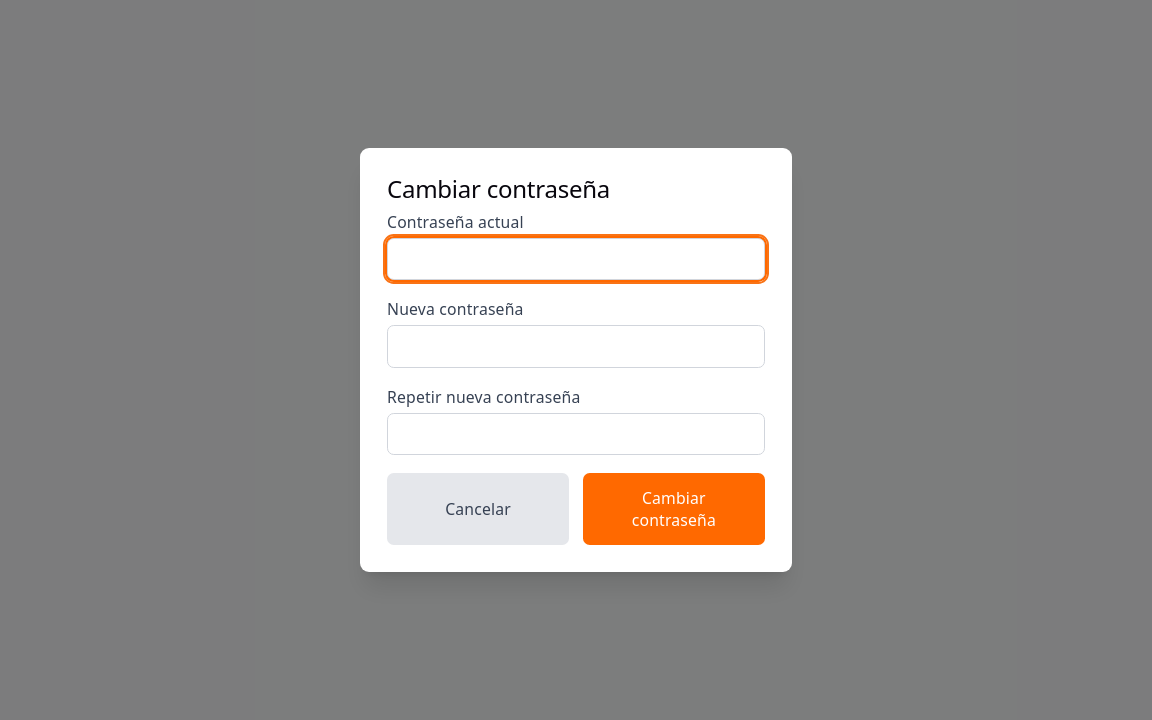
Test: ChangePasswordDialog › rejects a new password shorter than 8 characters
This screenshot has width=1152, height=720.
Type "current-secret" into the password field labelled "Contraseña actual". click: (576, 259)
box: [387, 238, 765, 280]
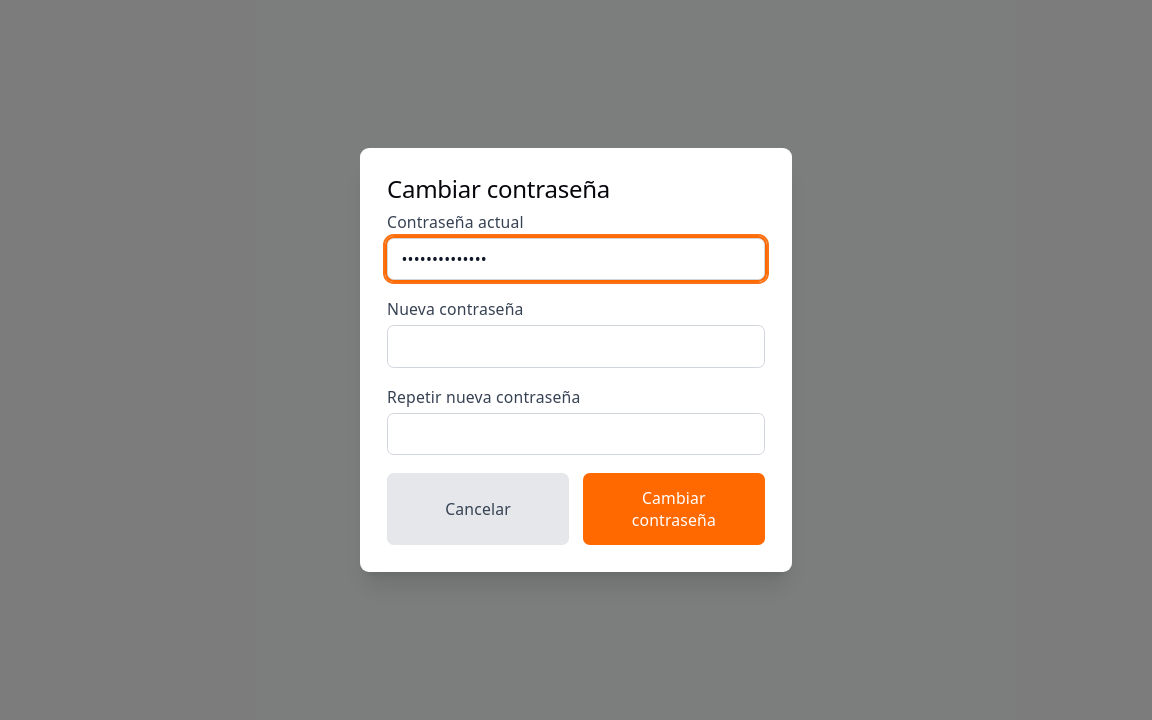
Type "short" into the password field labelled "Nueva contraseña". click: (576, 347)
box: [387, 325, 765, 368]
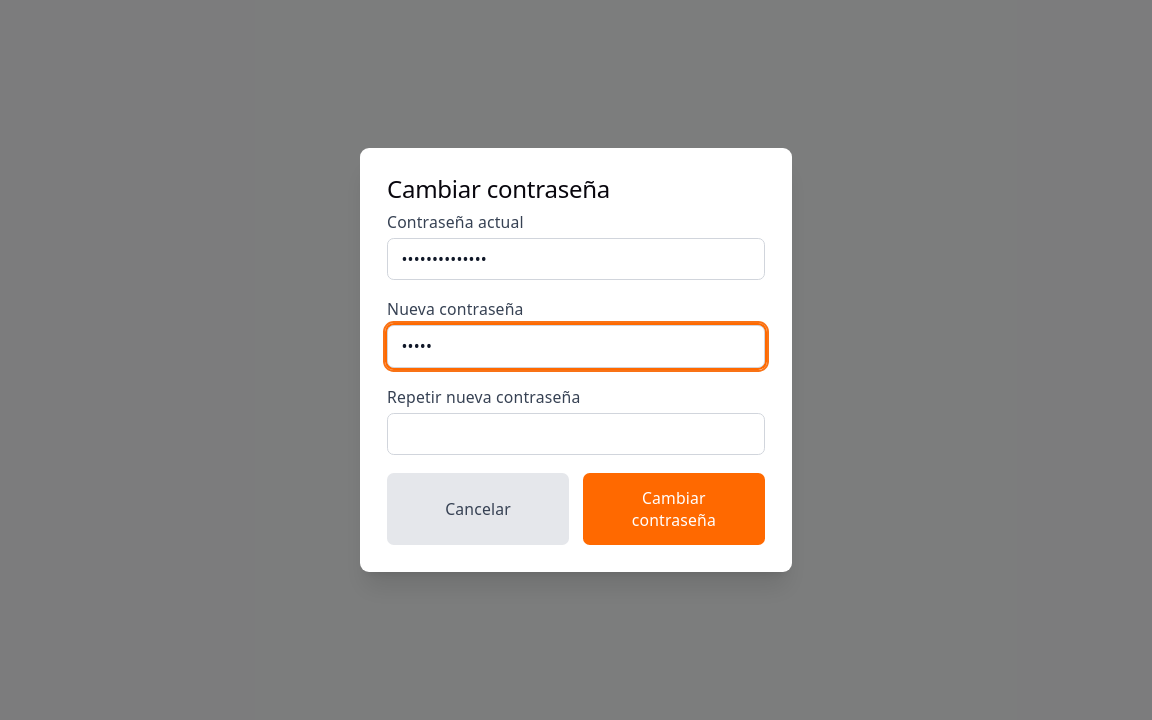
Type "short" into the password field labelled "Repetir nueva contraseña". click: (576, 434)
box: [387, 413, 765, 455]
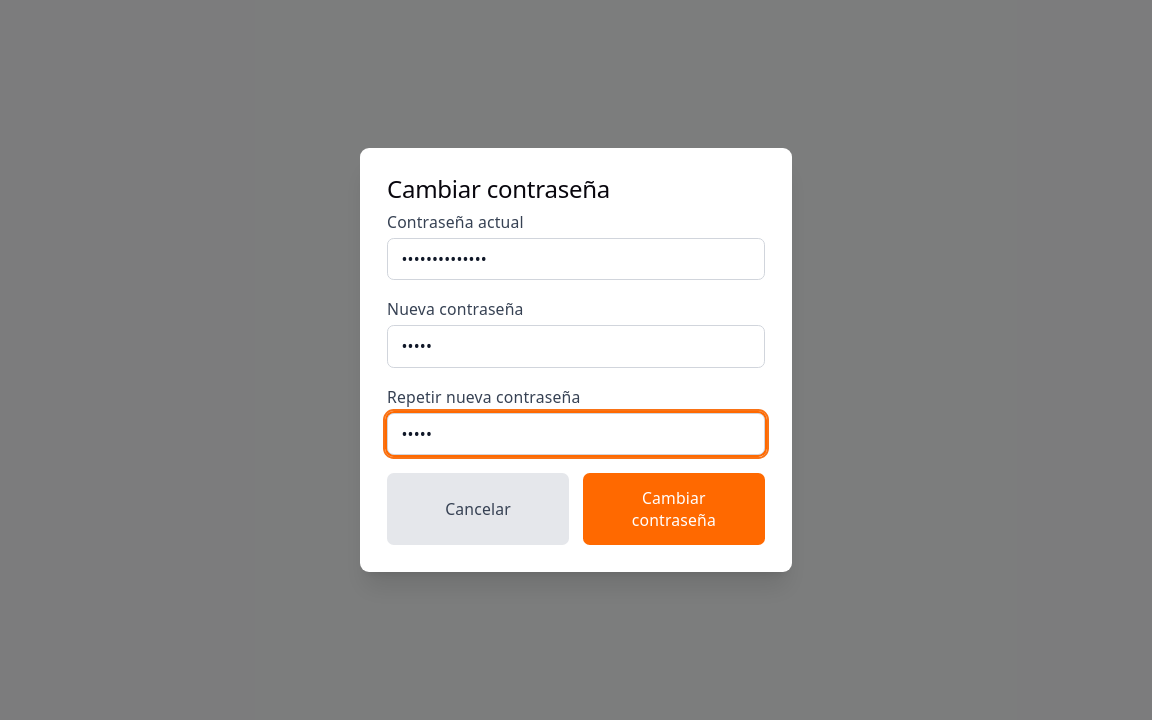
Click the button "Cambiar contraseña". click: (674, 509)
box: [583, 473, 765, 545]
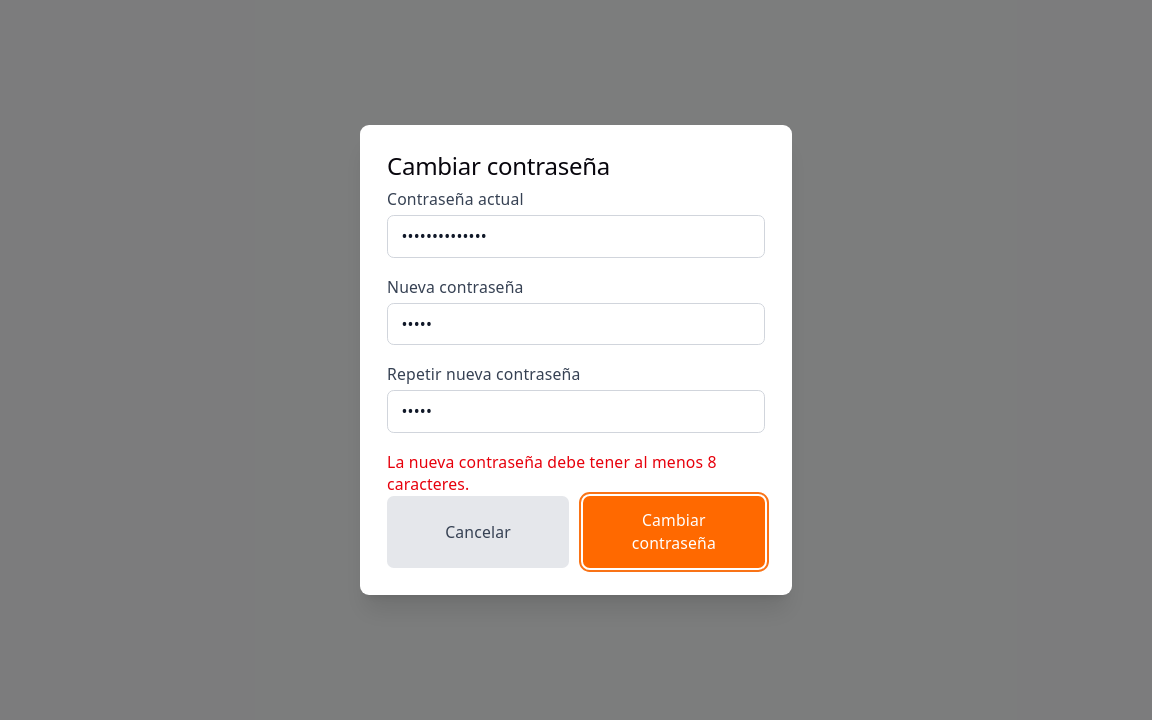
expect the message reads "La nueva contraseña debe tener al menos 8 caracteres.": met, box [387, 451, 717, 495]
